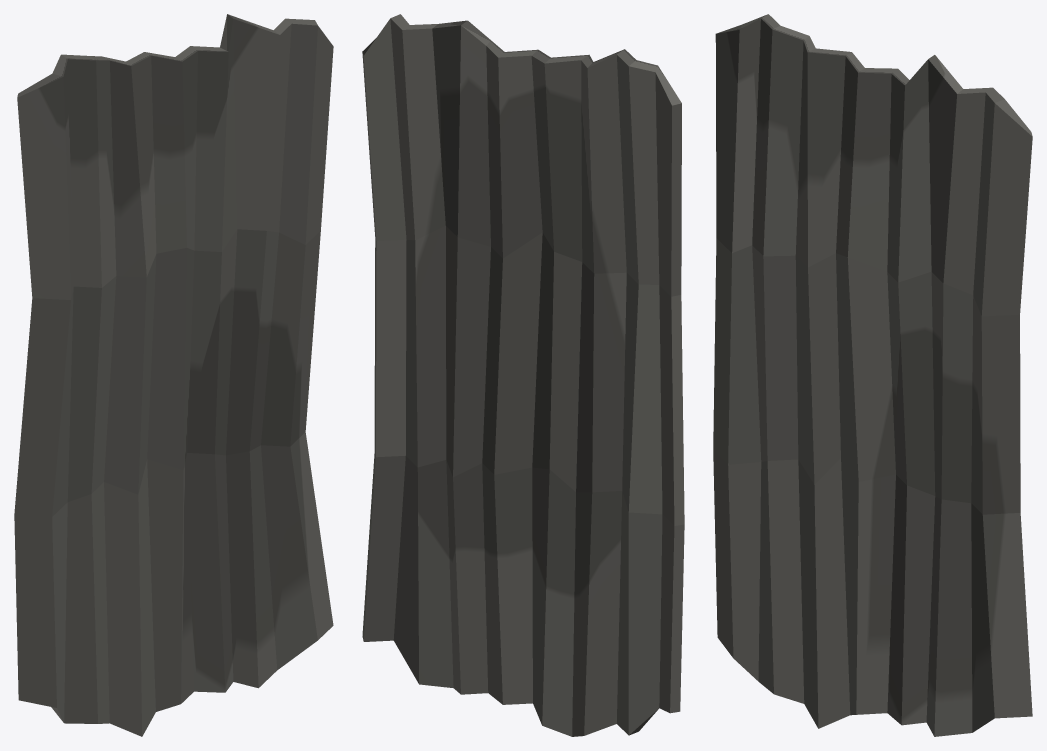
Rendered from SM_Metal_Sheet_A.fbx.
The picture shows the model from 3 angles, left to right: view 1: azimuth 30°, elevation 25°; view 2: azimuth 150°, elevation 25°; view 3: azimuth 330°, elevation 25°; orthographic projection.
Parts seen in each view (by area): view 1: SM_Metal_Sheet_A; view 2: SM_Metal_Sheet_A; view 3: SM_Metal_Sheet_A.
Part boxes in pixels (bbox=[...]): SM_Metal_Sheet_A: bbox=[14, 14, 333, 736]; SM_Metal_Sheet_A: bbox=[362, 14, 684, 736]; SM_Metal_Sheet_A: bbox=[713, 14, 1032, 736].
Size of the model in its own units: 101 by 207 by 17.18.
